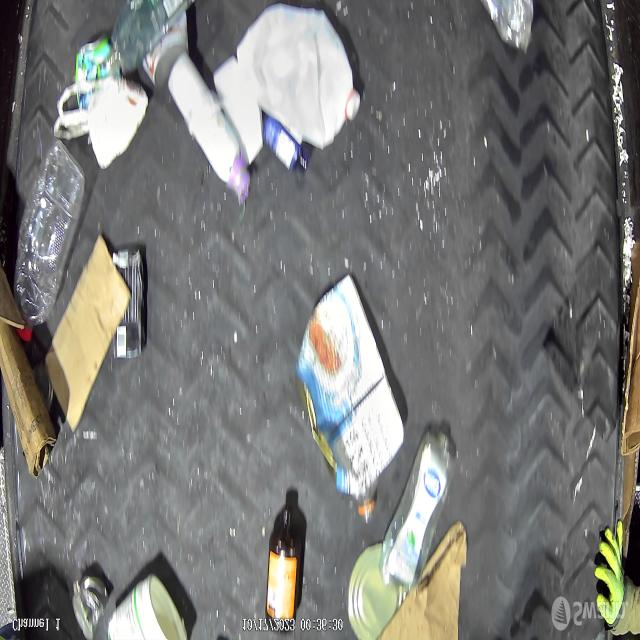can: (143, 10, 190, 89), (73, 575, 108, 639)
milk_jug: (237, 4, 361, 150)
plastic_bottle: (16, 139, 86, 336), (384, 433, 456, 588)
